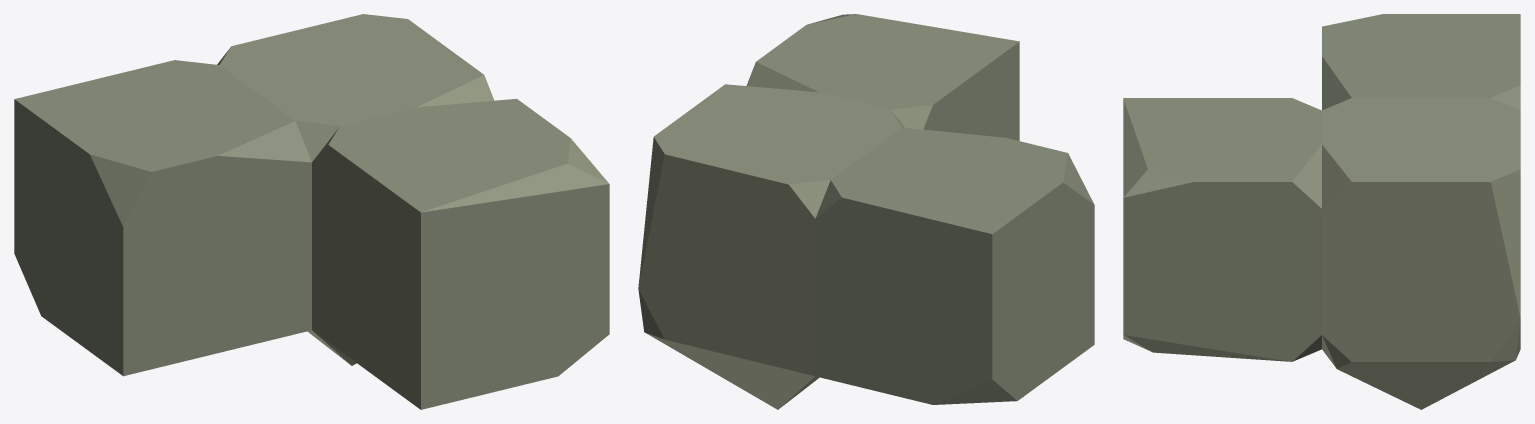
The model's file is railing_corner_conc_small_low.fbx.
3 views of the same model, side by side, from view 1: azimuth 30°, elevation 25°; view 2: azimuth 150°, elevation 25°; view 3: azimuth 270°, elevation 25° (orthographic). The views are drawn at different scales.
Parts seen in each view (by area): view 1: railing_corner_conc_small_low; view 2: railing_corner_conc_small_low; view 3: railing_corner_conc_small_low.
Boxes of the visible parts, x1,y1,x2,y2 form: railing_corner_conc_small_low: (14, 14, 609, 409); railing_corner_conc_small_low: (638, 14, 1094, 409); railing_corner_conc_small_low: (1123, 14, 1520, 409).
Bounding box in the file's own units: 100 × 75 × 100.
